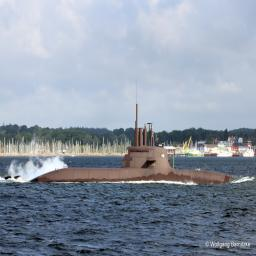submarine: (27, 97, 242, 186)
